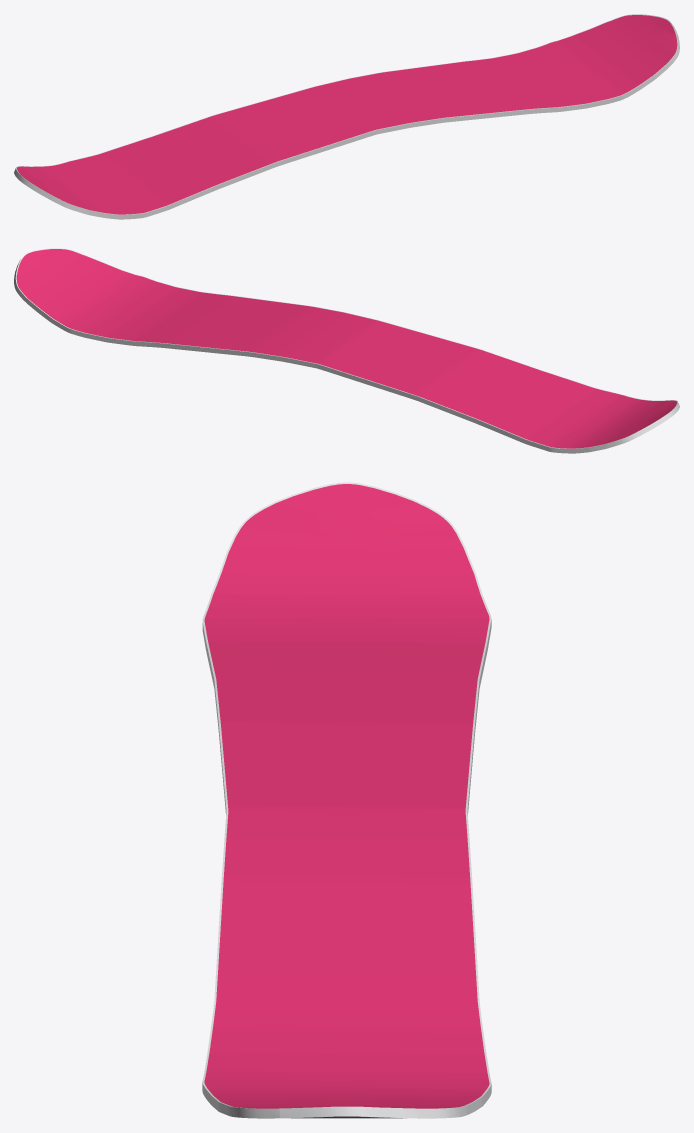
Rendered from board_twin-tip-2_camber.gltf.
3 views of the same model, one above another, from view 1: azimuth 30°, elevation 25°; view 2: azimuth 150°, elevation 25°; view 3: azimuth 270°, elevation 25° (orthographic). The views are drawn at different scales.
Visible parts, largest first — view 1: board-top, board-edge; view 2: board-top, board-edge; view 3: board-top, board-edge.
Boxes of the visible parts, x1,y1,x2,y2 form: board-top: [17, 15, 677, 214]; board-edge: [14, 14, 679, 219]; board-top: [16, 249, 676, 448]; board-edge: [14, 248, 679, 453]; board-top: [204, 484, 489, 1108]; board-edge: [202, 482, 491, 1118].
Size of the model in its own units: 1.51 by 0.0769 by 0.2923.
